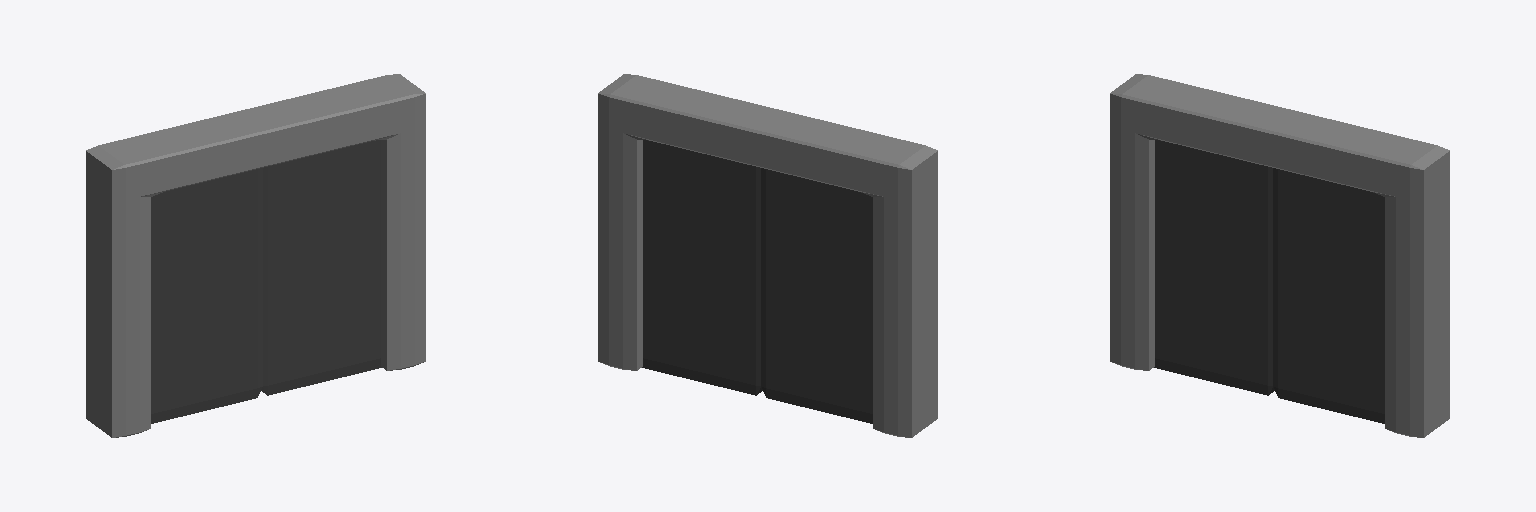
File: wall_door.obj
3 views of the same model, side by side, from view 1: azimuth 30°, elevation 25°; view 2: azimuth 150°, elevation 25°; view 3: azimuth 330°, elevation 25° (orthographic).
Parts seen in each view (by area): view 1: Cube.004, Cube.001, Cube; view 2: Cube.004, Cube.001, Cube; view 3: Cube.004, Cube, Cube.001.
Part boxes in pixels (x1,y1,x2,y2): Cube.004: (86, 74, 425, 437); Cube.001: (261, 140, 381, 395); Cube: (151, 168, 262, 423); Cube.004: (598, 74, 937, 437); Cube.001: (642, 140, 762, 395); Cube: (761, 168, 872, 423); Cube.004: (1110, 74, 1449, 437); Cube: (1154, 140, 1274, 395); Cube.001: (1273, 168, 1384, 423).
Bounding box in the file's own units: 3.14 × 2.6 × 0.5.